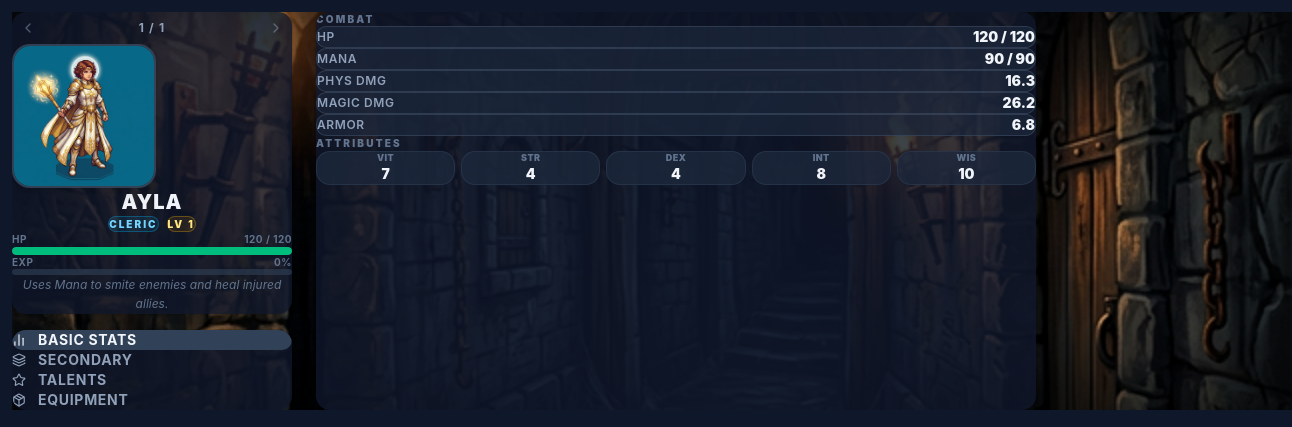
PartyView › switches to secondary stats panel when the Secondary tab is clicked
Click the button "Secondary" at (85, 359), box [12,350,292,370]
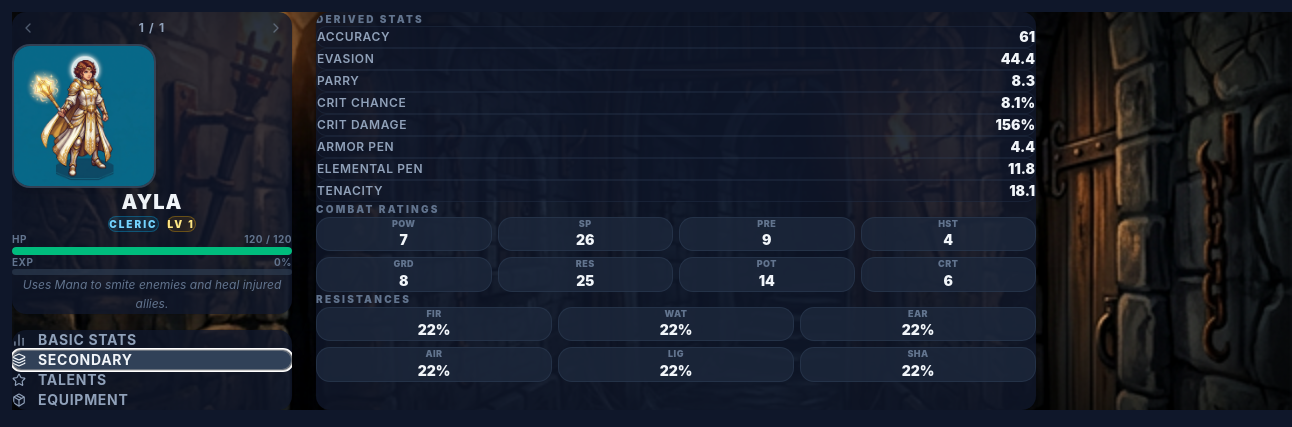
Expected: the text "Accuracy" is shown, [317,29,390,45]
Expected: the text "Evasion" is shown, [317,51,374,67]
Expected: the text "Crit Chance" is shown, [317,95,406,111]
